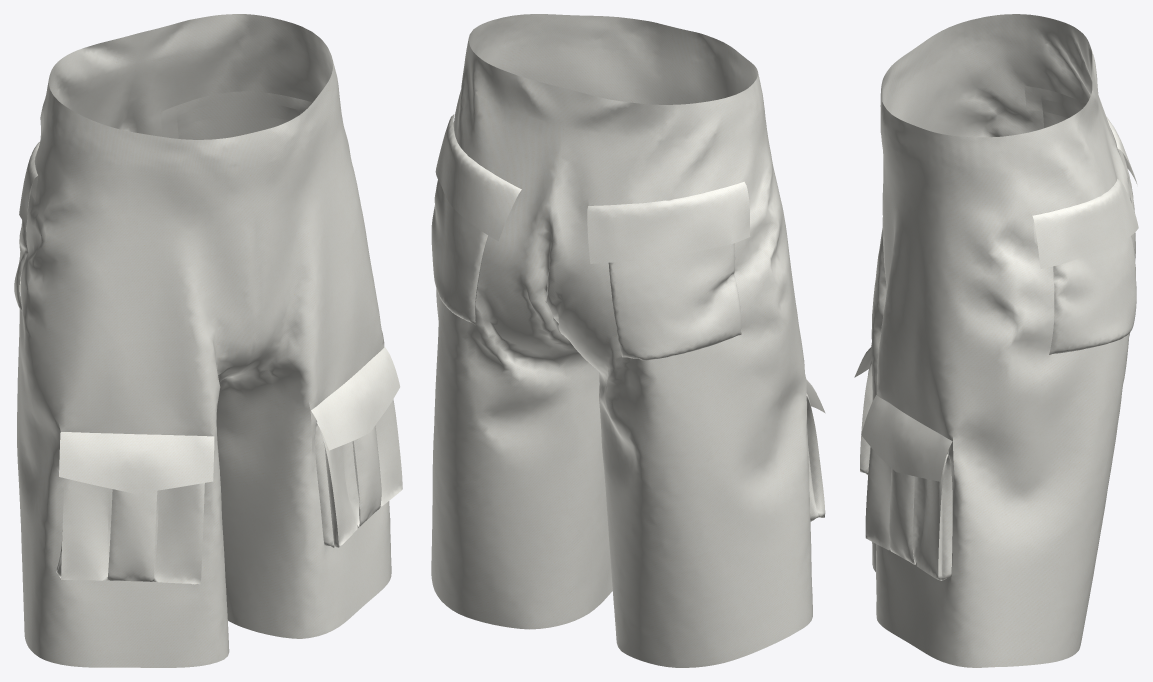
File: cargopants.glb
3 views of the same model, side by side, from view 1: azimuth 30°, elevation 25°; view 2: azimuth 150°, elevation 25°; view 3: azimuth 270°, elevation 25° (orthographic). The views are drawn at different scales.
Visible parts, largest first — view 1: cargopants; view 2: cargopants; view 3: cargopants.
Boxes of the visible parts, x1,y1,x2,y2 form: cargopants: (14, 14, 402, 667); cargopants: (431, 14, 825, 667); cargopants: (854, 14, 1138, 667).
Size of the model in its own units: 2.94 by 4.4 by 2.14.
Materials: 1 (1 with a texture image).
